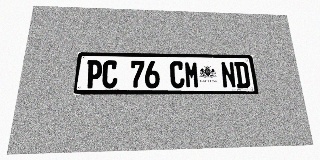6: (145, 61, 160, 88)
7: (129, 61, 144, 88)
C: (101, 60, 118, 88), (170, 61, 185, 88)
D: (234, 62, 251, 88)
M: (184, 61, 200, 88)
N: (220, 62, 237, 88)
P: (85, 60, 103, 88)
